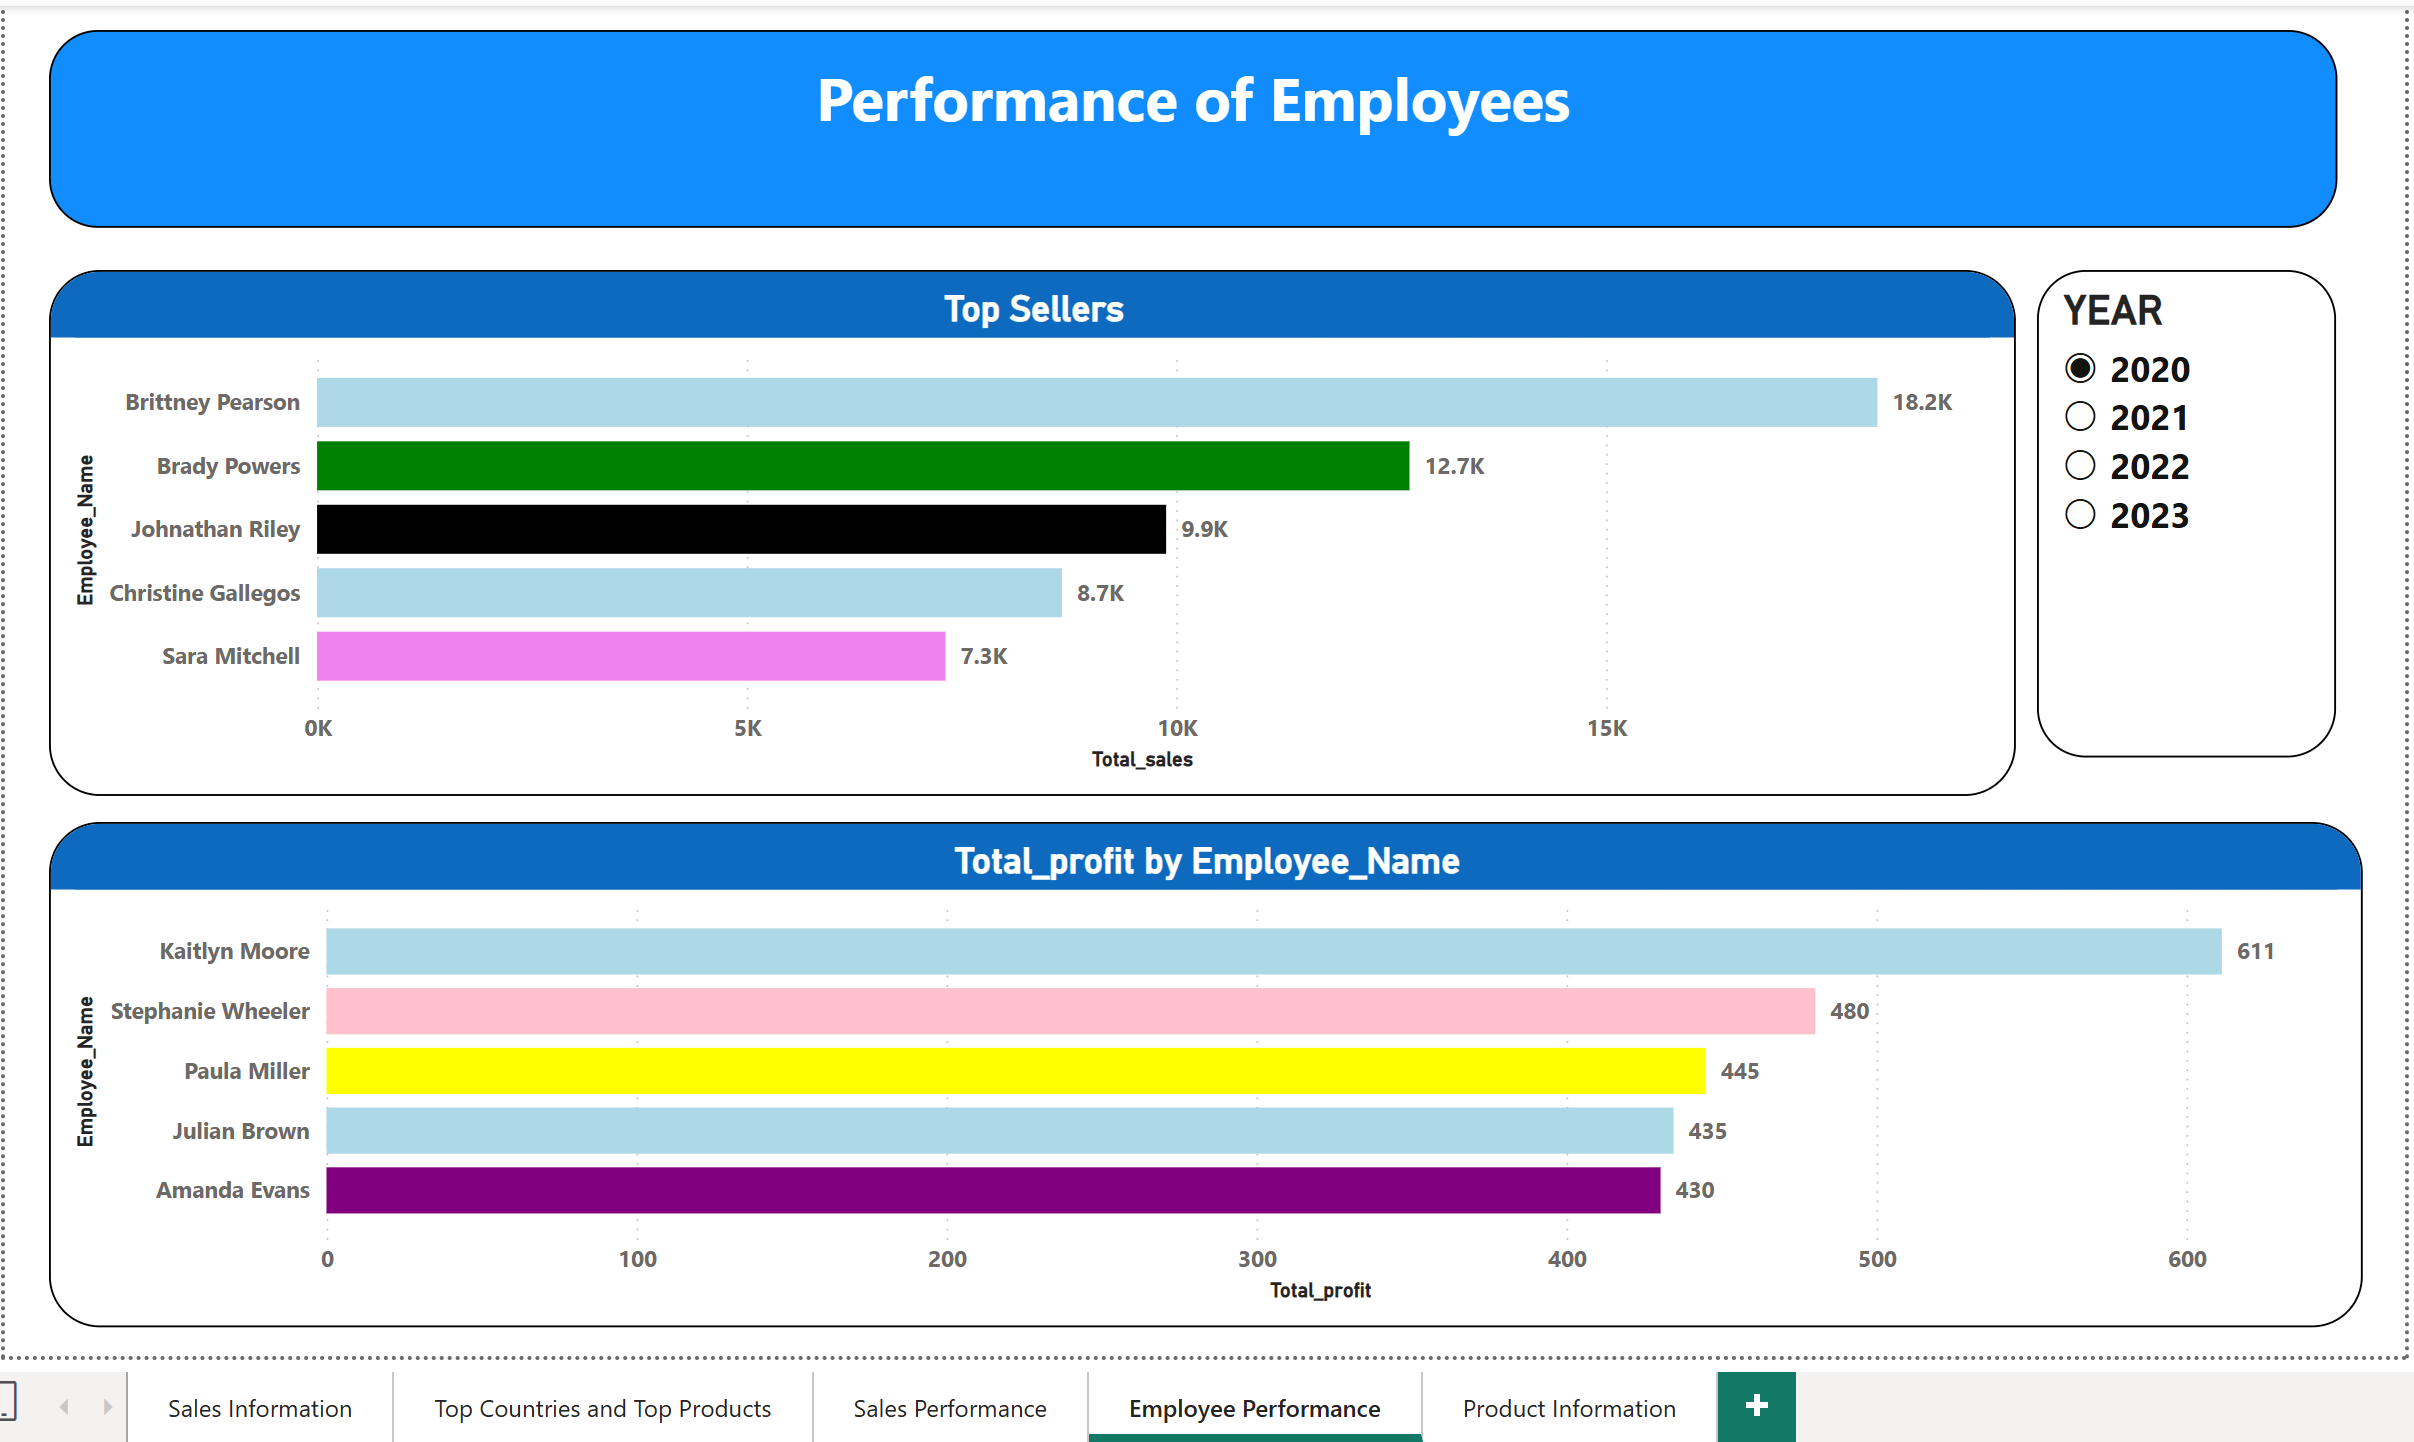

What the dashboard file says about the page in this screenshot:
{"tool":"powerbi","page":{"name":"Employee Performance","canvas":[1280,720],"ordinal":3},"visuals":[{"type":"clusteredBarChart","title":"Top Sellers","fields":{"Category":["Employee Information.Employee_Name"],"Y":["Sales Information.Total_sales"]},"box":[23.9,140.3,1048.9,280.5],"z":0},{"type":"listSlicer","fields":{"Values":["Date.YEAR"]},"box":[1083.9,140.3,159.4,259.8],"z":1000},{"type":"clusteredBarChart","fields":{"Category":["Employee Information.Employee_Name"],"Y":["Sales Information.Total_profit"]},"box":[23.9,435.2,1233.8,269.4],"z":2000},{"type":"textbox","box":[23.7,13.2,1220.7,105.5],"z":3000}]}

Visuals, with their boxes on the page's 1280x720 design canvas (x1, y1, x2, y2). These are canvas units, not pixel positions in the 2414x1442 screenshot, which may show the page scaled, cropped or inside an application window:
"Top Sellers" clusteredBarChart: bbox(24, 140, 1073, 421)
listSlicer - Date.YEAR: bbox(1084, 140, 1243, 400)
clusteredBarChart - Employee Information.Employee_Name x Sales Information.Total_profit: bbox(24, 435, 1258, 705)
textbox: bbox(24, 13, 1244, 119)
